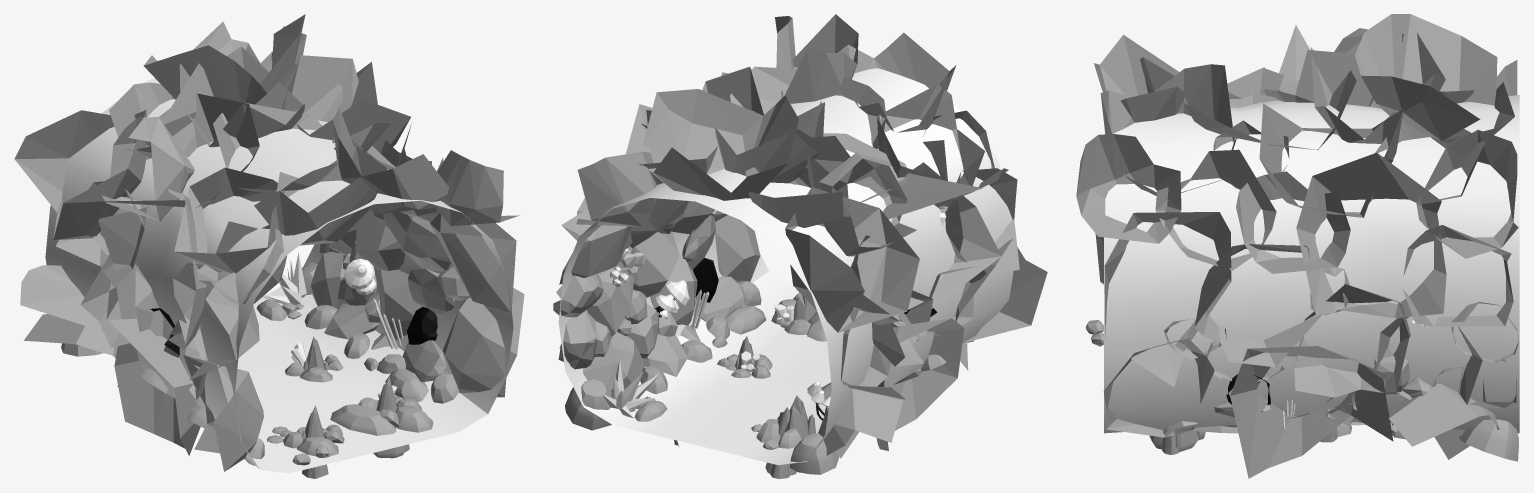
Rendered from Cave1.fbx.
3 views of the same model, side by side, from view 1: azimuth 30°, elevation 25°; view 2: azimuth 150°, elevation 25°; view 3: azimuth 270°, elevation 25° (orthographic). The views are drawn at different scales.
Parts seen in each view (by area): view 1: caverna_2, polySurface301, polySurface294; view 2: caverna_2, polySurface301, polySurface294, polySurface356; view 3: caverna_2.
Part boxes in pixels (x1=…): caverna_2: x1=14, y1=14, x2=524, y2=478; polySurface301: x1=262, y1=253, x2=306, y2=305; polySurface294: x1=344, y1=258, x2=375, y2=294; caverna_2: x1=553, y1=14, x2=1047, y2=478; polySurface301: x1=602, y1=358, x2=661, y2=418; polySurface294: x1=654, y1=280, x2=689, y2=319; polySurface356: x1=610, y1=248, x2=645, y2=287; caverna_2: x1=1076, y1=14, x2=1519, y2=478.
Bounding box in the file's own units: 16.71 × 14.87 × 15.1.
